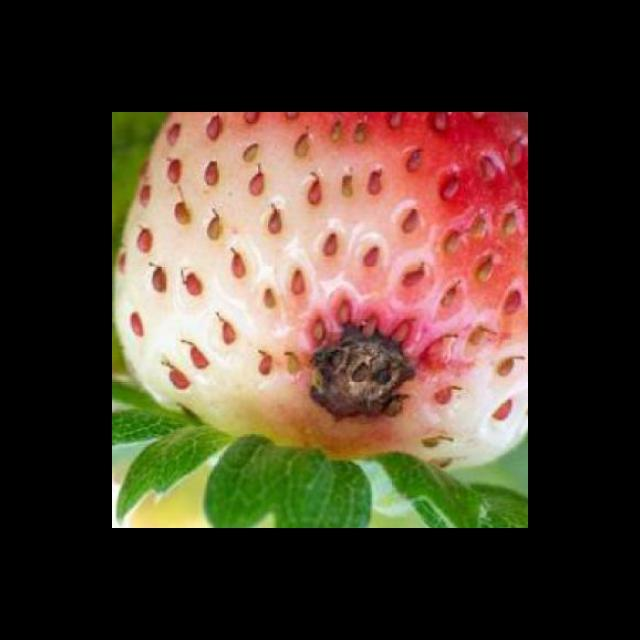Anthracnose Fruit Rot: (280, 300, 437, 441)
